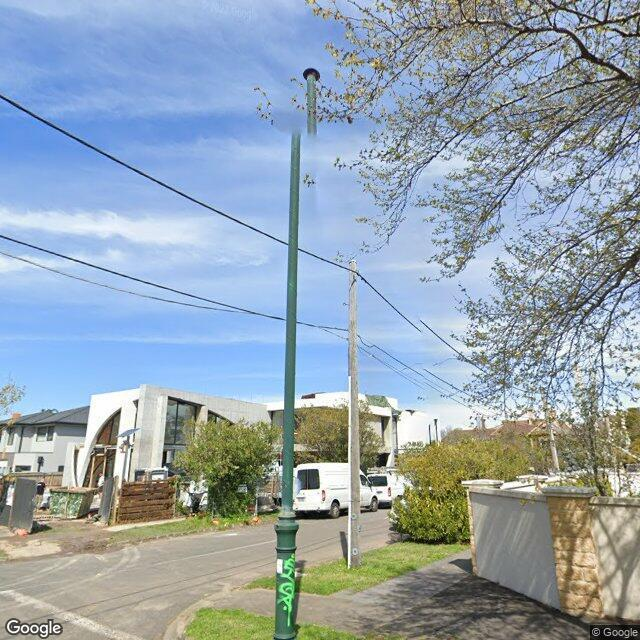timber-pole: (349, 260, 361, 565), (541, 385, 560, 472)
